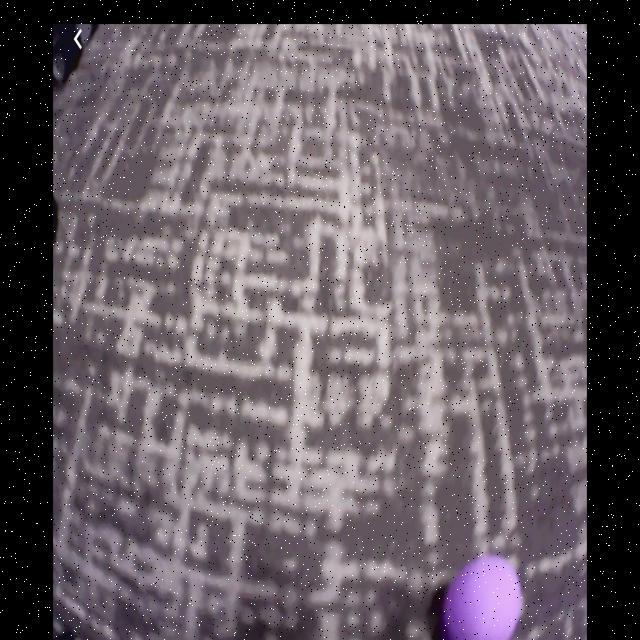ball: (444, 559, 524, 640)
